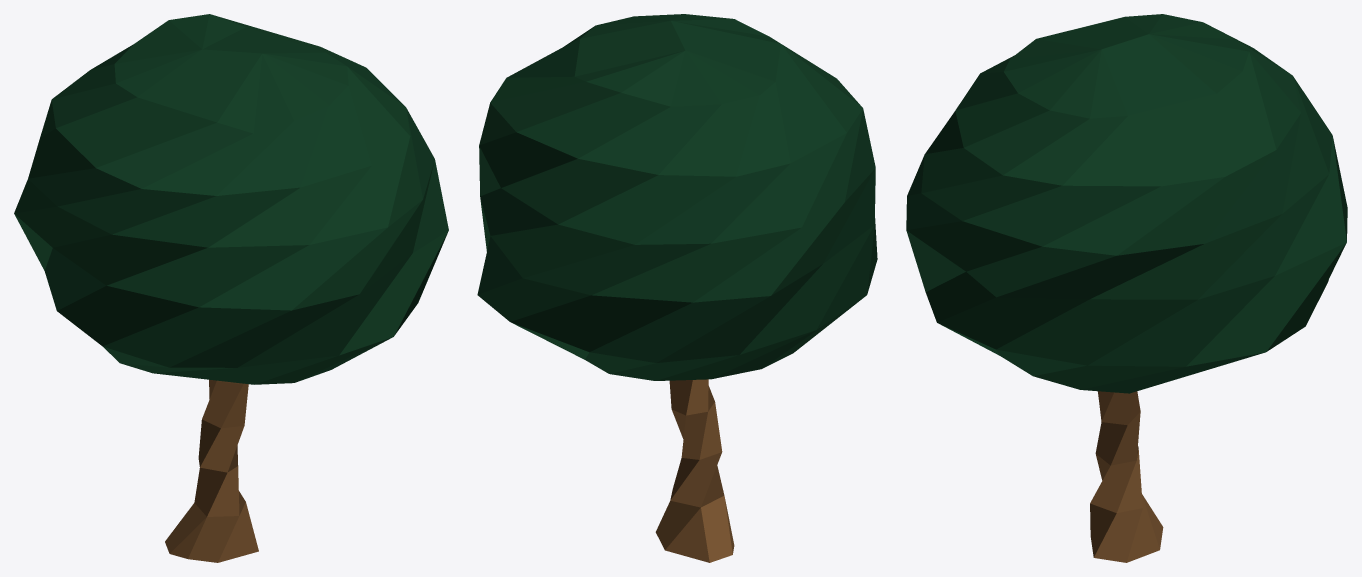
The model's file is Arbre2.1.fbx.
3 renders of one model, left to right at view 1: azimuth 30°, elevation 25°; view 2: azimuth 150°, elevation 25°; view 3: azimuth 270°, elevation 25°, orthographic. The views are drawn at different scales.
Visible parts, largest first — view 1: ChamferBox001; view 2: ChamferBox001; view 3: ChamferBox001.
Part boxes in pixels (bbox=[...]): ChamferBox001: bbox=[14, 14, 448, 562]; ChamferBox001: bbox=[477, 14, 877, 562]; ChamferBox001: bbox=[906, 14, 1347, 562].
Size of the model in its own units: 33.49 by 45.15 by 35.27.
Materials: 1 (1 with a texture image).
